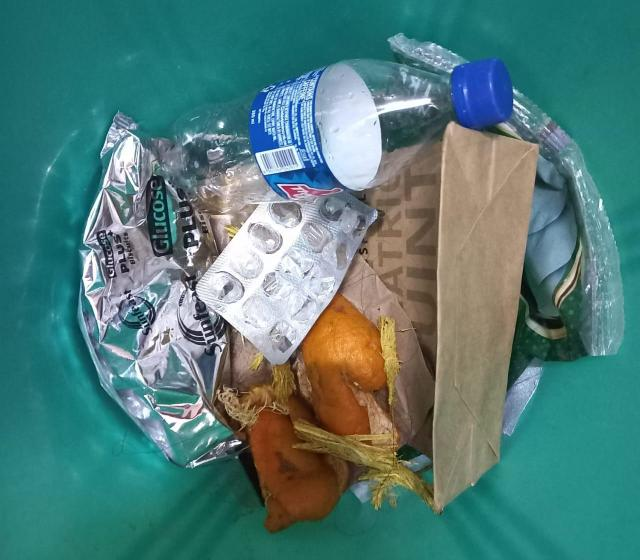Garbage: (79, 39, 624, 529)
Plastic: (196, 192, 376, 365)
Plastic_Bag: (79, 115, 242, 468), (500, 90, 624, 384), (390, 35, 461, 71)
Plastic_bottle: (169, 59, 512, 214)
